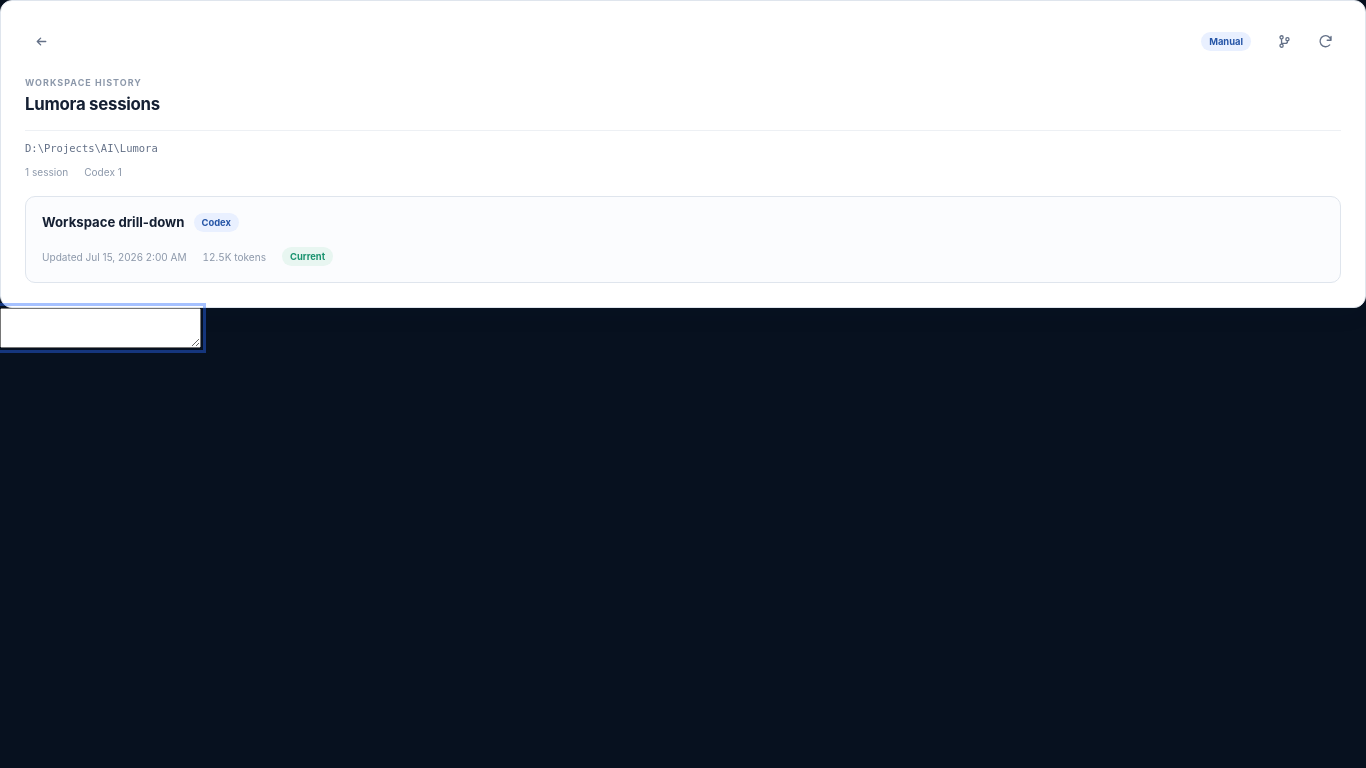
Scenario: WorkspaceSessionsView › changes › opens and closes the panel from the toolbar without moving focus
Click the button named "Changes" at (1284, 41), box [1268,25,1300,57]
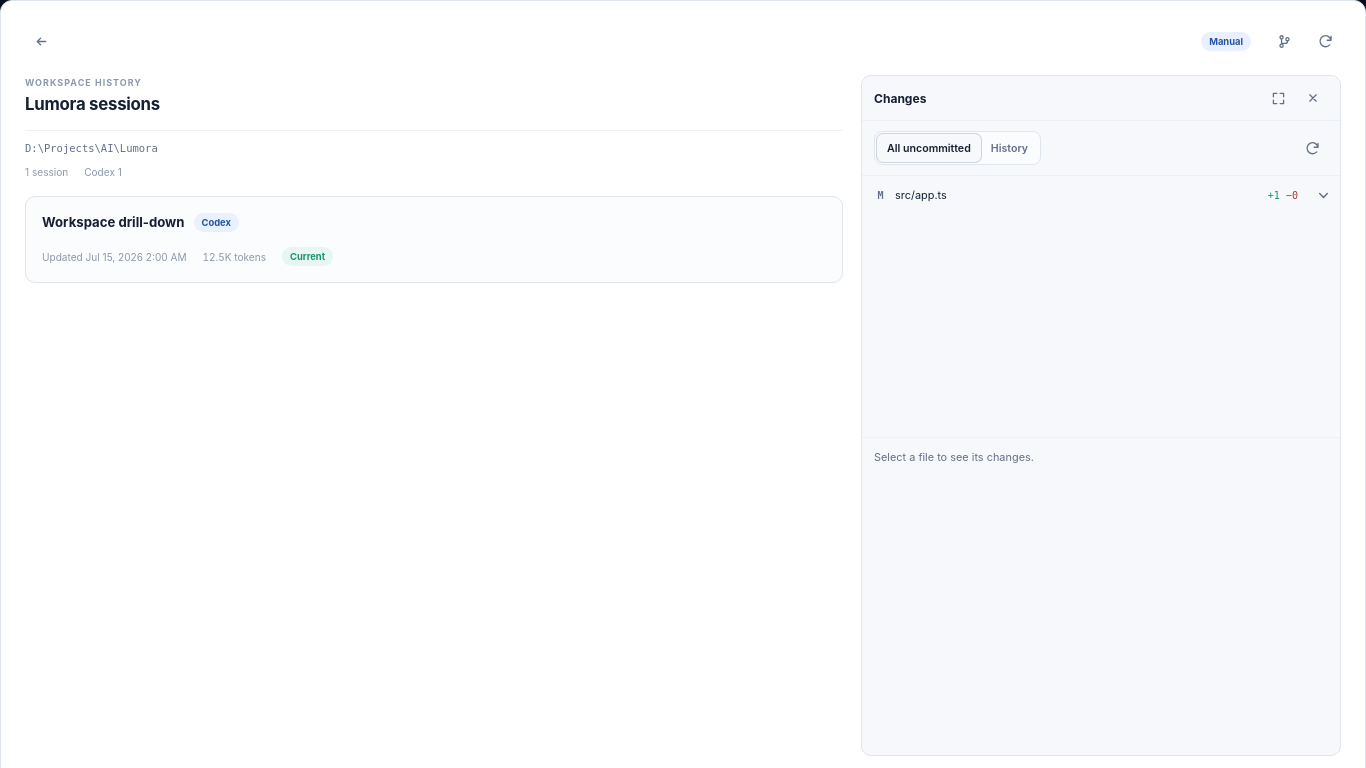
Expected: the text "src/app.ts" is shown, [895,188,947,202]
Click the button named "Close changes" at (1313, 98), box [1298,83,1328,113]
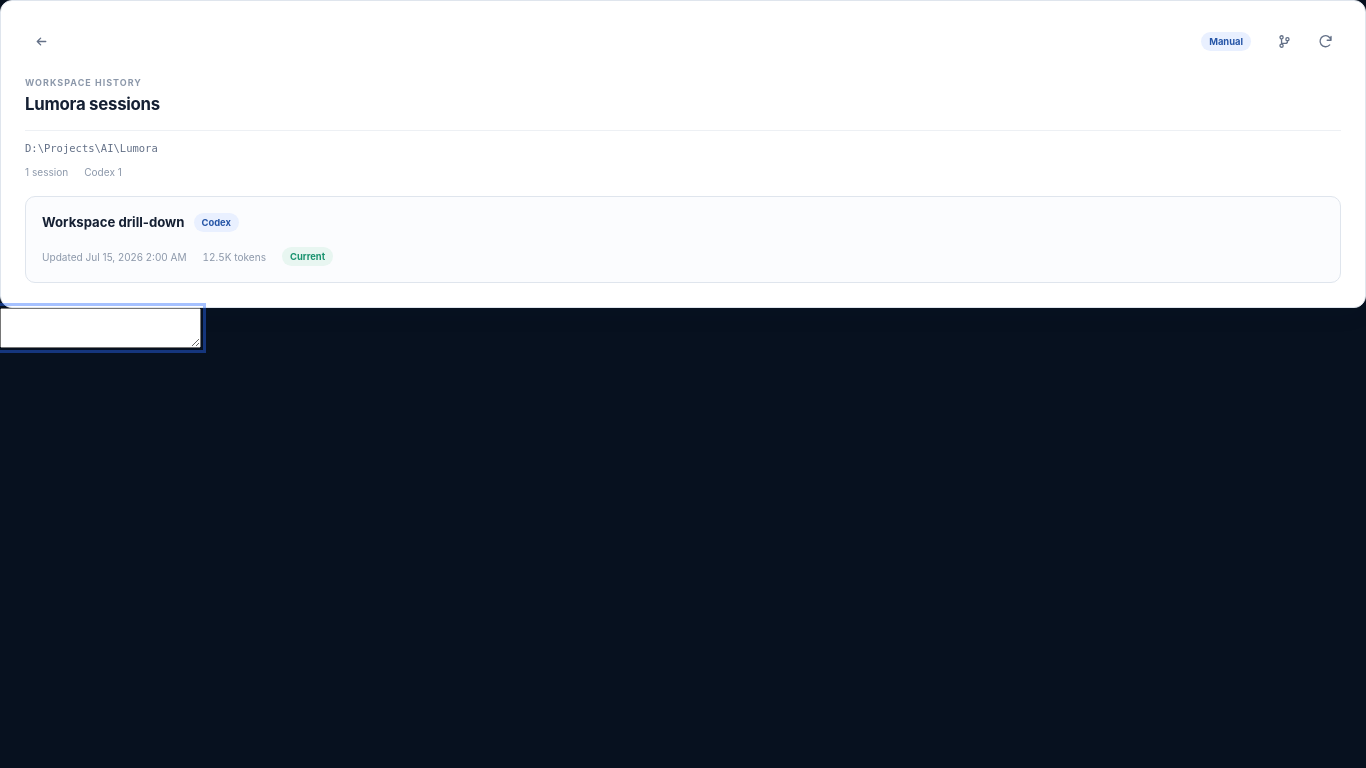
Expected: the heading "Changes" is gone
